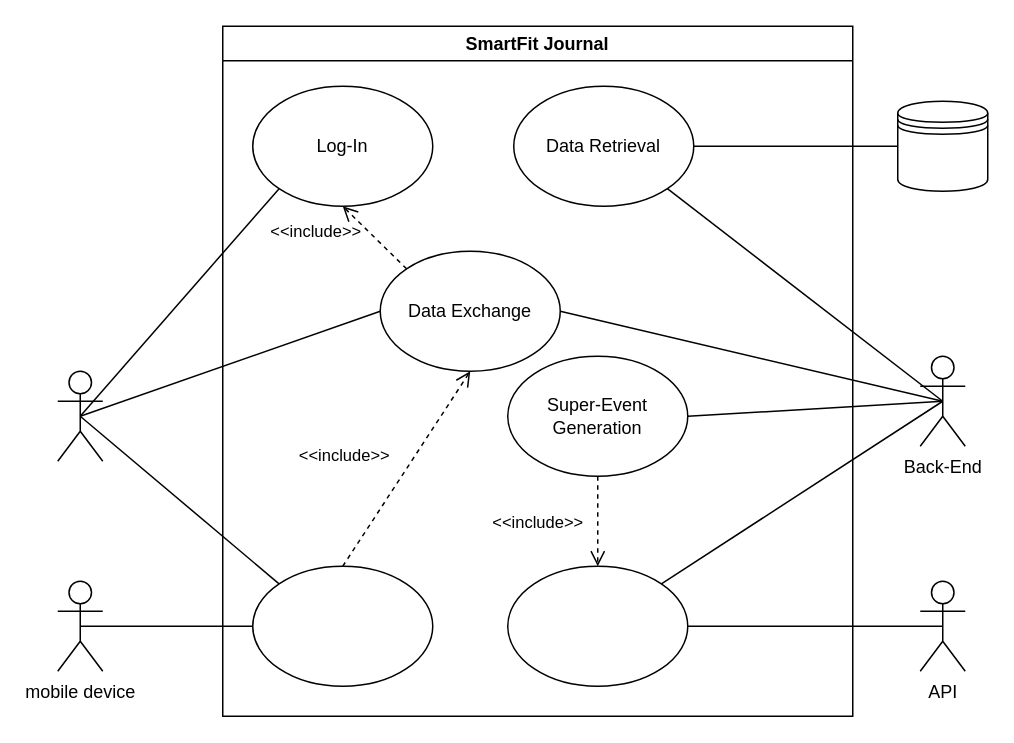
The diagram is 1014 pixels wide and 743 high, and some of its shapes have lost their labels. The box of each missing label's shape, as (x1, y1, x2, y2) in pixels:
Automated Activity Scheduling: (251, 565, 433, 686)
Data Request: (506, 565, 688, 686)
Database: (896, 100, 988, 191)
User: (56, 370, 103, 461)
